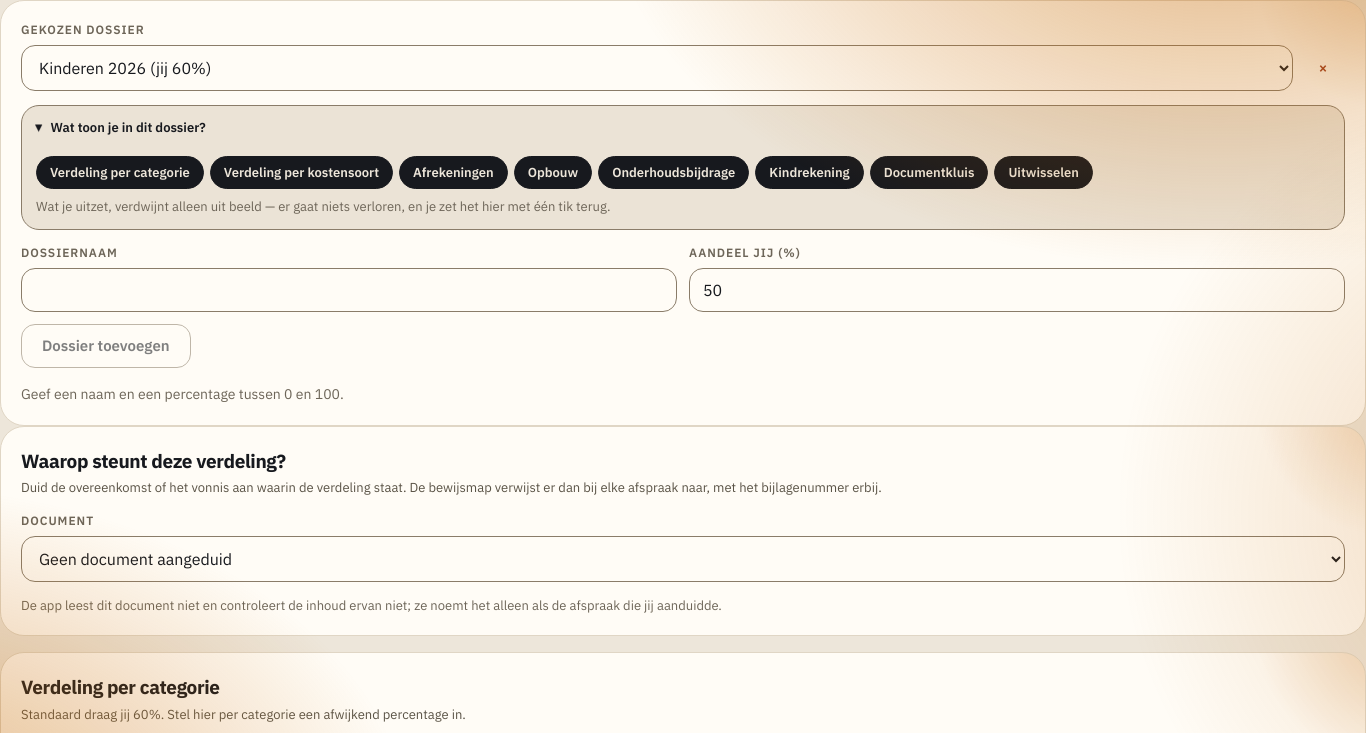
DossierSectie — de chips voor de onderdelen › zet je tik terug wanneer het opslaan mislukt
Click the button "Documentkluis".
click(929, 172)  # box left=870, top=156, right=988, bottom=189
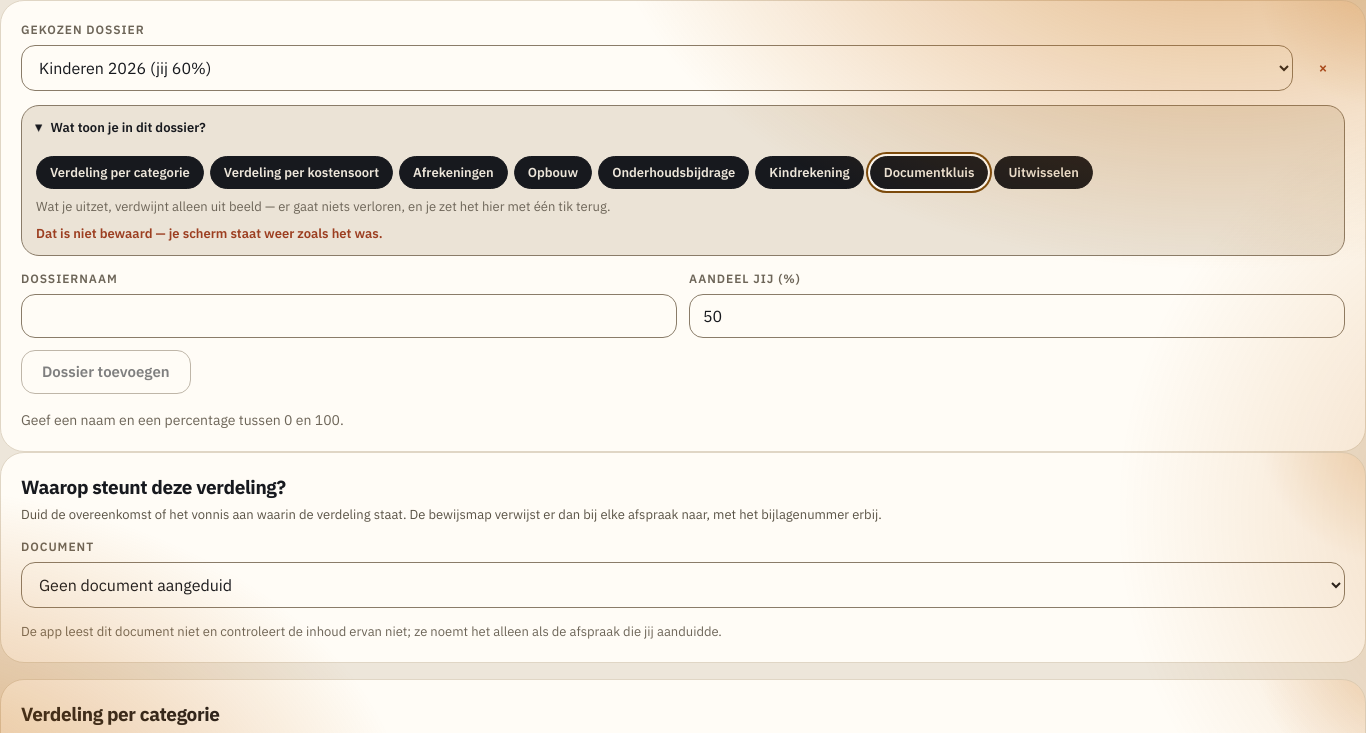
Expected: the text "Dat is niet bewaard — je scherm staat weer zoals het was." is shown, left=36, top=224, right=382, bottom=242
